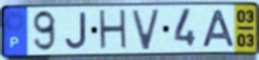4: (172, 6, 201, 52)
9: (31, 9, 59, 54)
A: (200, 9, 237, 49)
H: (97, 7, 130, 53)
J: (64, 11, 89, 51)
V: (130, 8, 162, 52)
